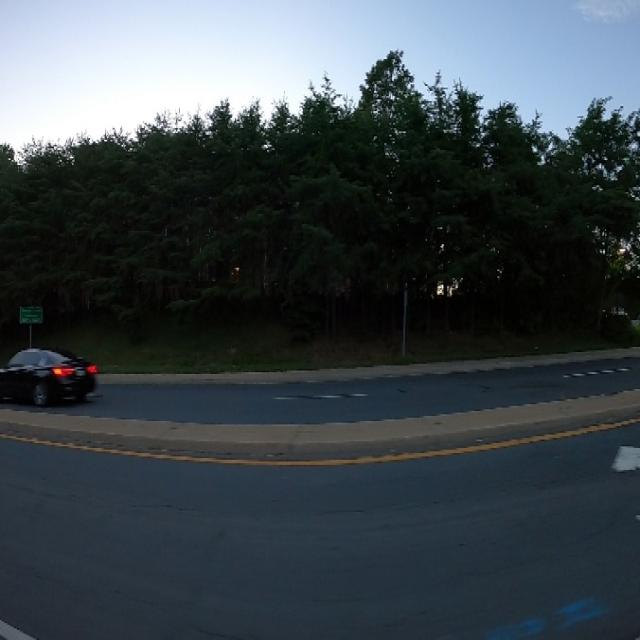Cars: (0, 343, 100, 416)
